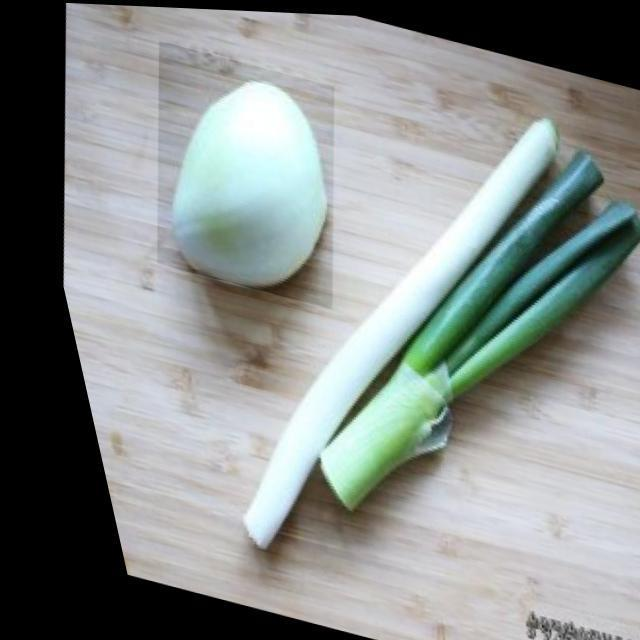Onion: (104, 37, 370, 309)
